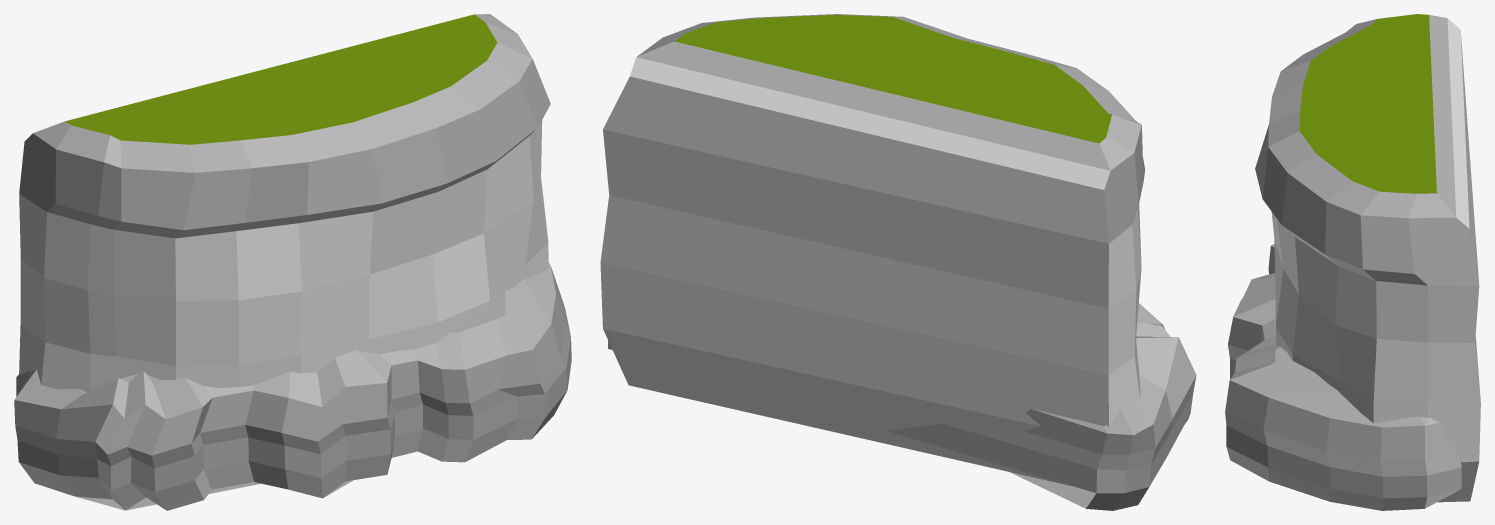
File: CliffRound.fbx
3 renders of one model, left to right at view 1: azimuth 30°, elevation 25°; view 2: azimuth 150°, elevation 25°; view 3: azimuth 270°, elevation 25°, orthographic. The views are drawn at different scales.
Parts seen in each view (by area): view 1: Plane.022, Plane.019, Plane.020, Plane.021; view 2: Plane.022, Plane.021, Plane.019, Plane.020; view 3: Plane.022, Plane.019, Plane.020, Plane.021.
Part boxes in pixels (x1,y1,x2,y2): Plane.022: [19, 120, 548, 391]; Plane.019: [14, 262, 571, 510]; Plane.020: [19, 14, 550, 238]; Plane.021: [65, 14, 497, 144]; Plane.022: [600, 57, 1141, 485]; Plane.021: [674, 14, 1111, 143]; Plane.019: [608, 303, 1196, 510]; Plane.020: [636, 14, 1145, 243]; Plane.022: [1271, 18, 1480, 502]; Plane.019: [1225, 244, 1461, 510]; Plane.020: [1255, 15, 1479, 285]; Plane.021: [1299, 14, 1436, 193].
Size of the model in its own units: 3414 by 2182 by 1574.
